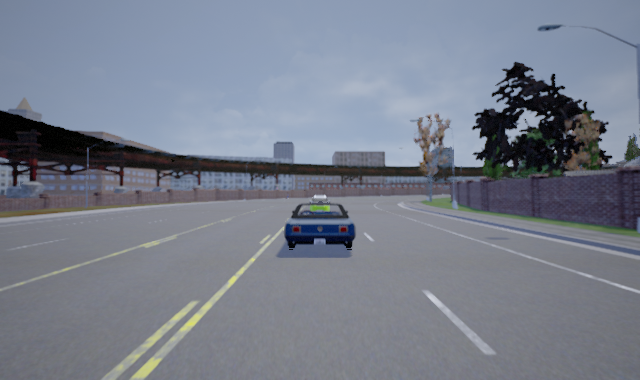vehicle: (282, 199, 357, 256), (308, 194, 331, 217)
